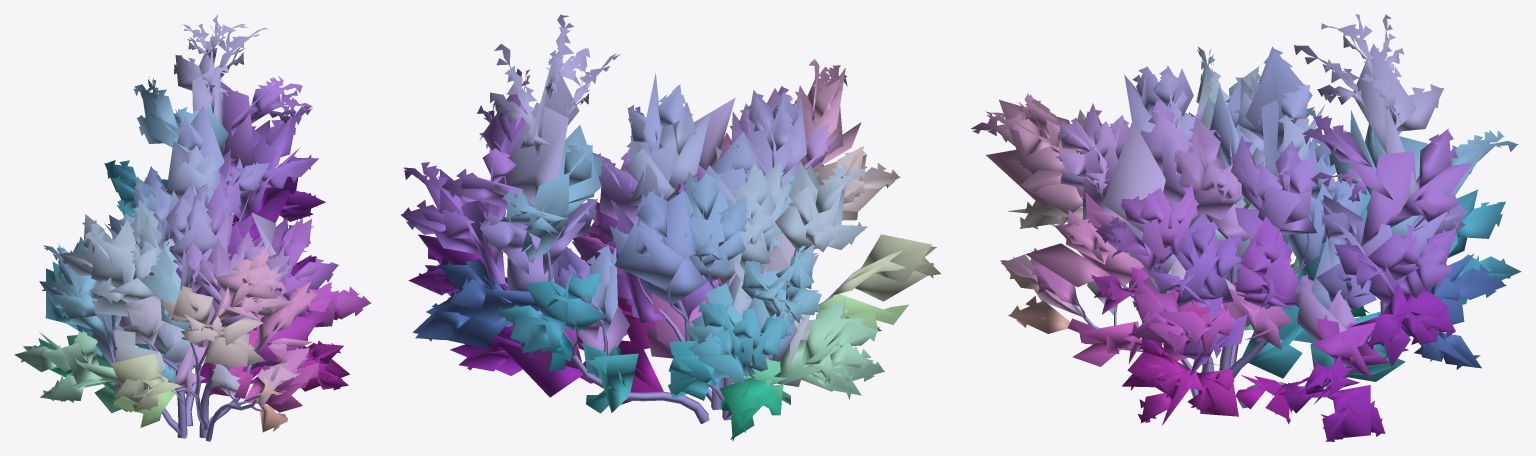
3 renders of one model, left to right at view 1: azimuth 30°, elevation 25°; view 2: azimuth 150°, elevation 25°; view 3: azimuth 270°, elevation 25°, orthographic. The views are drawn at different scales.
Visible parts, largest first — view 1: SM_BS_Retama_400cm_HD; view 2: SM_BS_Retama_400cm_HD; view 3: SM_BS_Retama_400cm_HD.
Part boxes in pixels (<box>): SM_BS_Retama_400cm_HD: <box>14,14,371,441</box>; SM_BS_Retama_400cm_HD: <box>401,14,940,441</box>; SM_BS_Retama_400cm_HD: <box>971,14,1521,441</box>.
Bounding box in the file's own units: 165 × 148 × 145.
